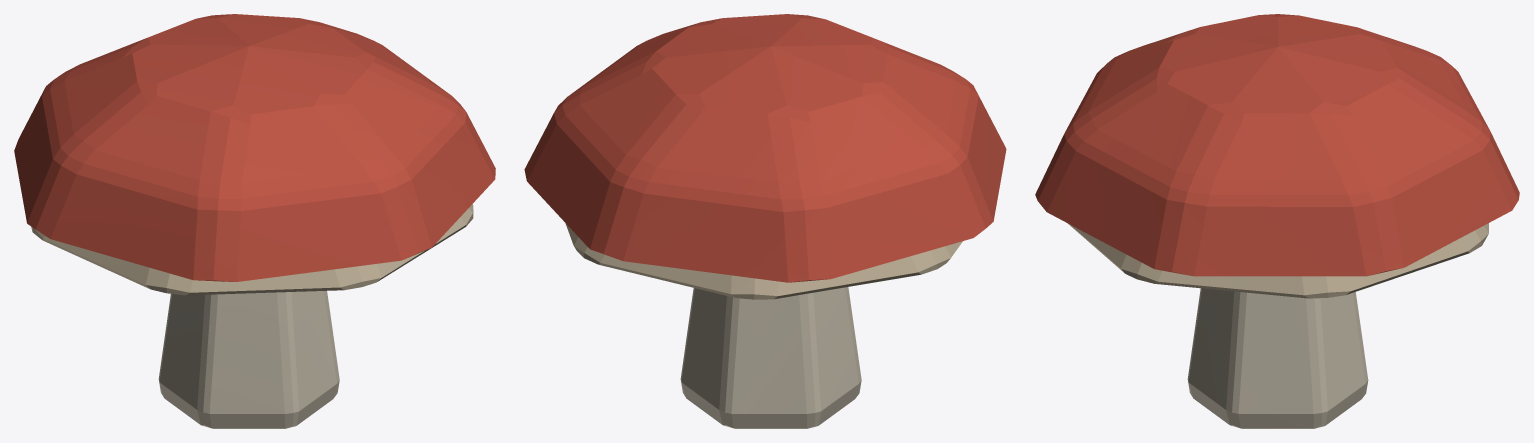
Rendered from prop_toadstoolRed.glb.
3 renders of one model, left to right at view 1: azimuth 30°, elevation 25°; view 2: azimuth 150°, elevation 25°; view 3: azimuth 270°, elevation 25°, orthographic.
Parts seen in each view (by area): view 1: prop_toadstoolRed_part_0; view 2: prop_toadstoolRed_part_0; view 3: prop_toadstoolRed_part_0.
Boxes of the visible parts, box(x1,y1,x2,y2) form: prop_toadstoolRed_part_0: box(14, 14, 495, 428); prop_toadstoolRed_part_0: box(524, 14, 1006, 428); prop_toadstoolRed_part_0: box(1035, 14, 1519, 428).
Size of the model in its own units: 0.6179 by 0.51 by 0.6296.
